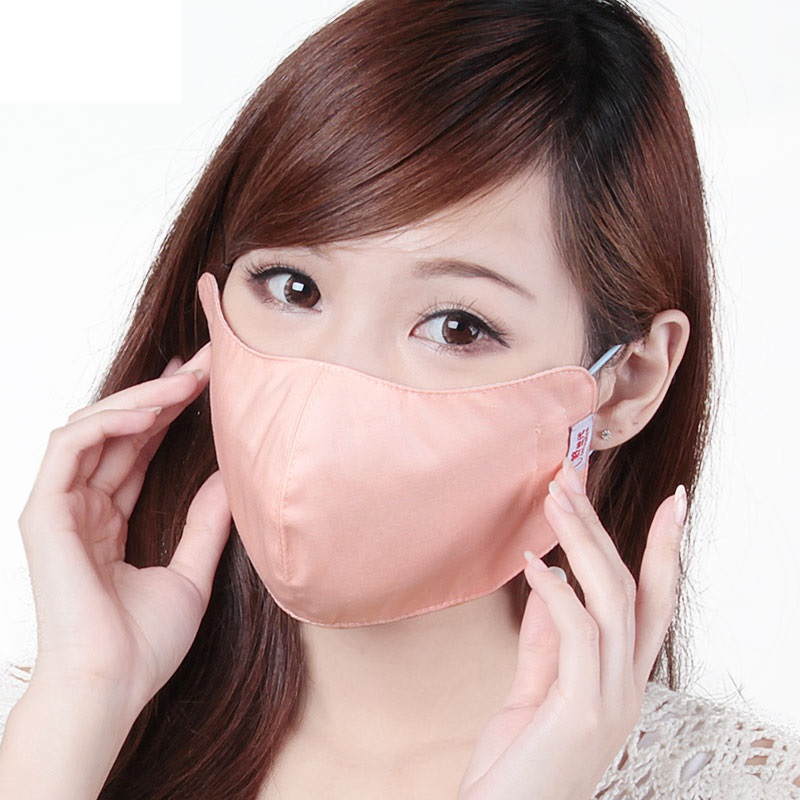face_mask: (210, 124, 585, 628)
